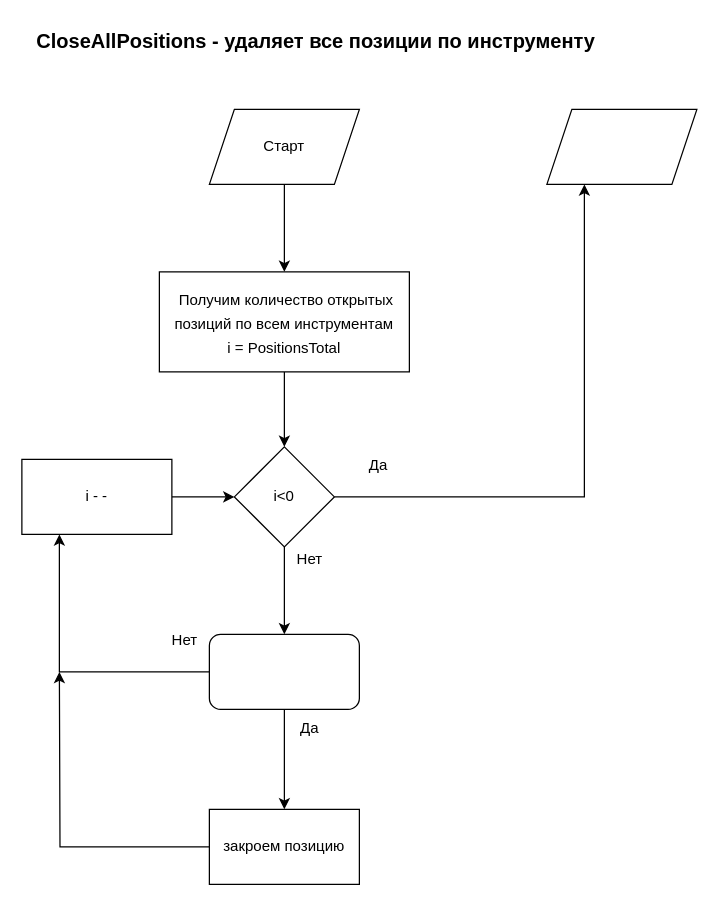
Image size: 719x906. Some labels were removed from this diagram. Here are the shapes that lost their labels. From the top down, the centre of each, then its label:
At point 621,146: "Выход".
At point 283,671: "Наш инструмент и меджик".
